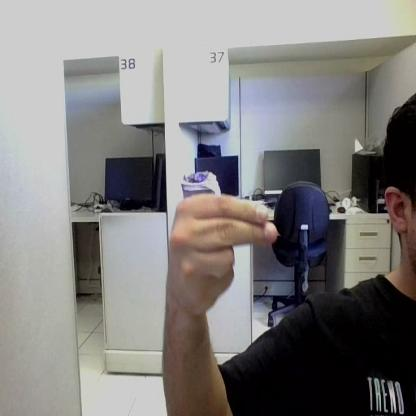H: (170, 193, 276, 310)
